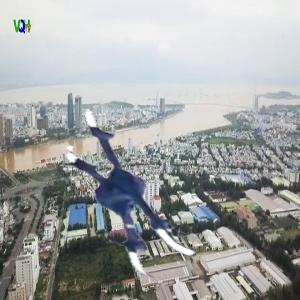drone: (51, 99, 230, 278)
